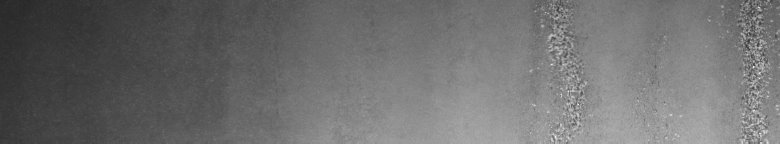hc: (669, 4, 776, 136)
